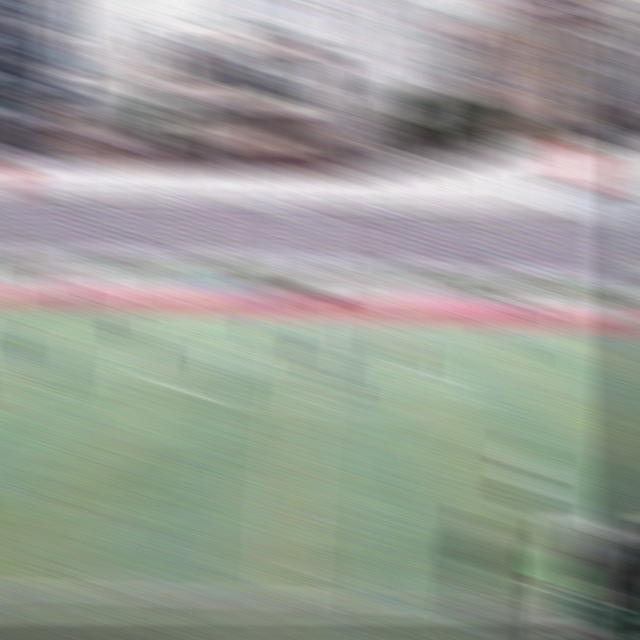halfcircle_bottom: (279, 395, 316, 422)
halfcircle_top: (282, 340, 317, 365)
midline_bottom_intersection: (261, 575, 308, 616)
midline_top_intersection: (285, 310, 318, 325)
